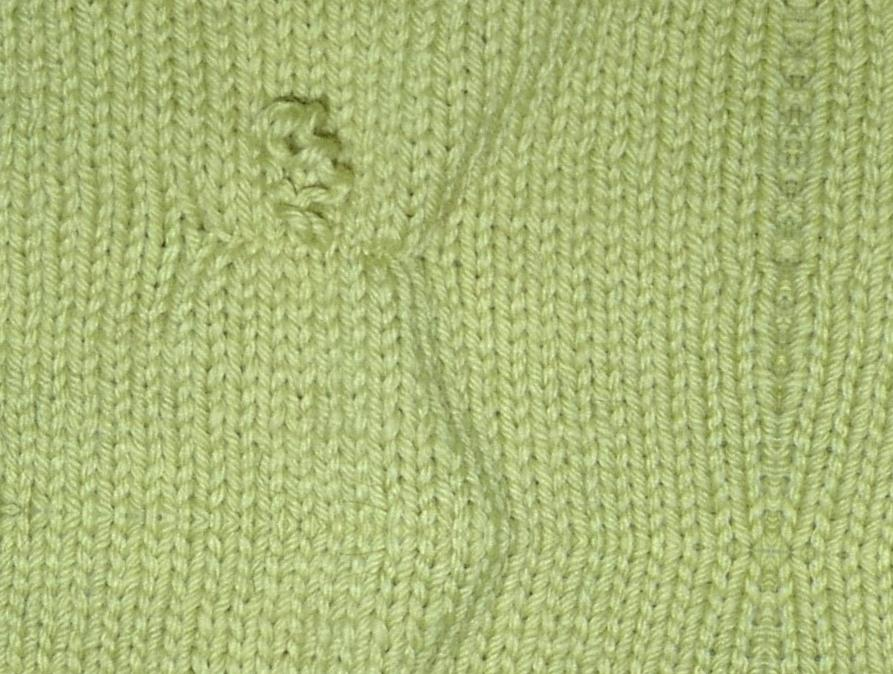knot: (250, 89, 365, 243)
